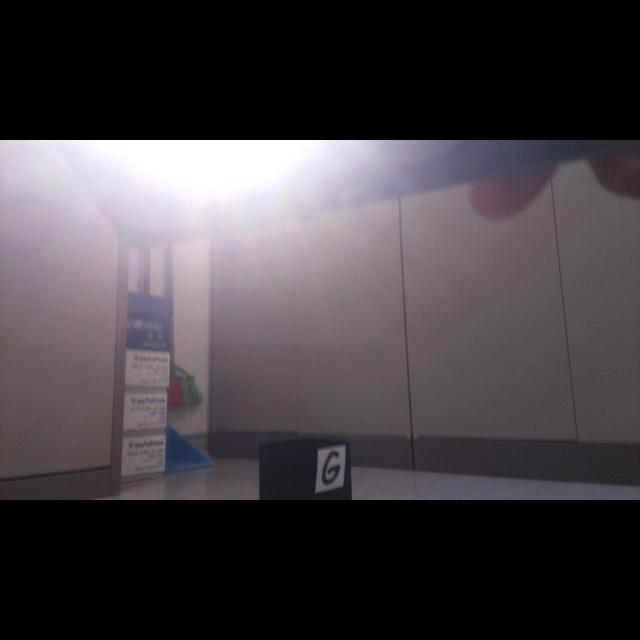G: (322, 450, 340, 485)
